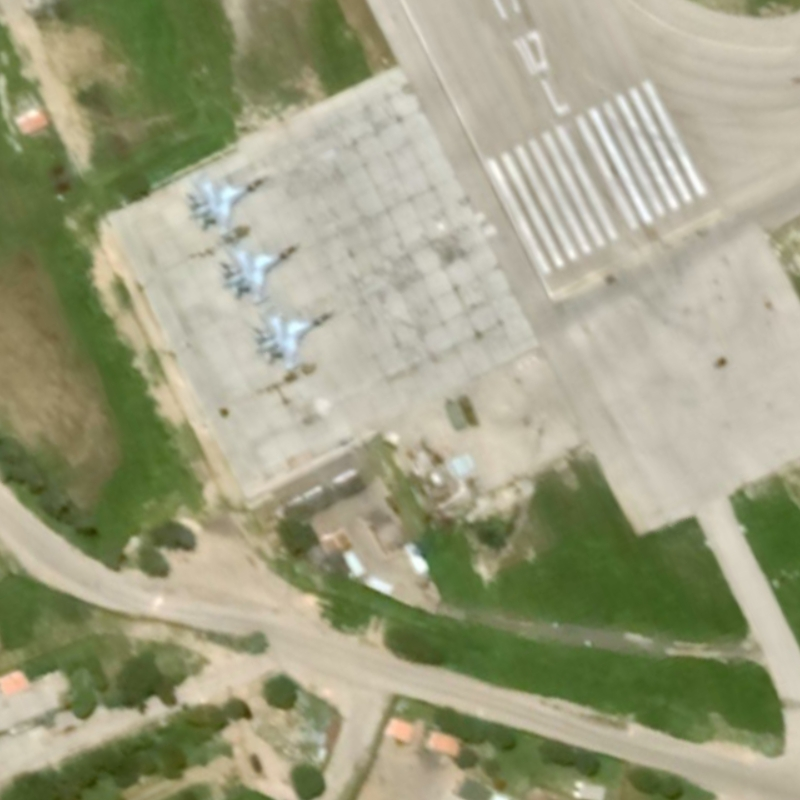A1: (187, 169, 272, 239), (217, 239, 302, 307), (254, 305, 339, 372)
